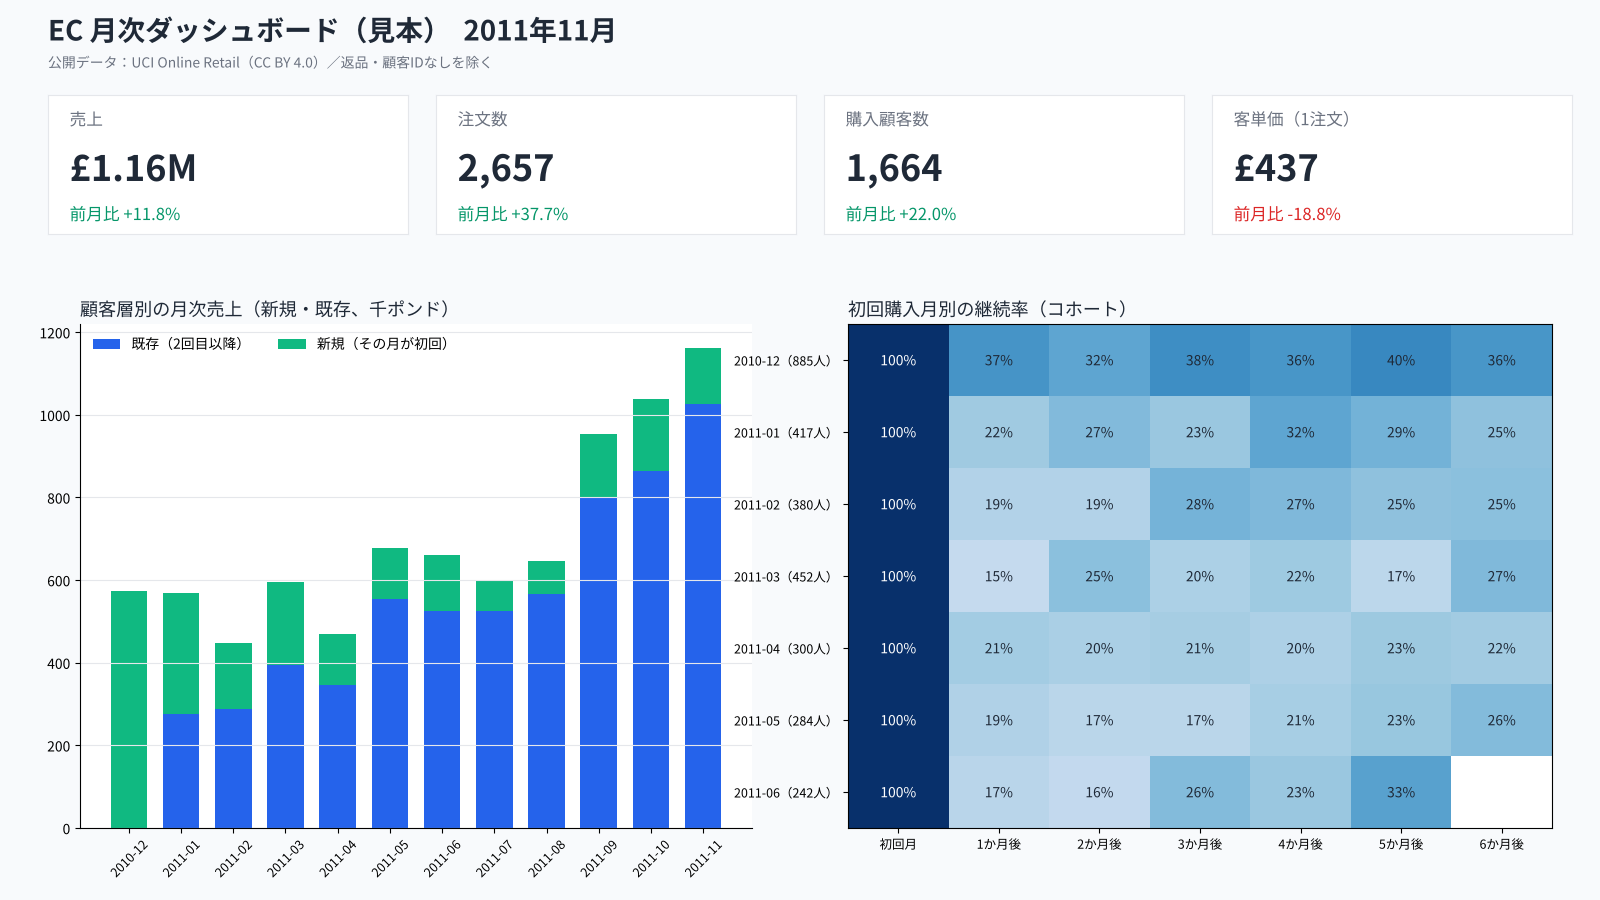

The dashboard page shown, as its layout file describes it:
{"tool":"powerbi","page":{"name":"ページ 1","canvas":[1920,1080],"ordinal":0},"visuals":[{"type":"cardVisual","fields":{"Data":["fact_sales.売上 前月比","fact_sales.注文数 前月比","fact_sales.購入顧客数 前月比","fact_sales.客単価 前月比"]},"box":[10.1,250.5,1886.2,79.2],"z":1000},{"type":"columnChart","fields":{"Category":["Calendar.年月"],"Series":["fact_sales.顧客区分"],"Y":["fact_sales.売上"]},"box":[10.1,347.2,943.1,724.8],"z":2000},{"type":"pivotTable","fields":{"Columns":["経過月.Value"],"Rows":["dim_customer.初回月"],"Values":["fact_sales.コホート 継続率"]},"box":[953.2,347.2,943.1,724.8],"z":3000},{"type":"slicer","fields":{"Values":["Calendar.年月"]},"box":[1589.6,16.6,299.3,72.8],"z":4000},{"type":"textbox","box":[35.9,31.3,979.9,75.5],"z":5000},{"type":"cardVisual","fields":{"Data":["fact_sales.売上（表示）","fact_sales.注文数（表示）","fact_sales.購入顧客数（表示）","fact_sales.客単価（表示）"]},"box":[10.1,82.9,1886.2,150.1],"z":5001}]}

Visuals, with their boxes in screenshot pixels (x1, y1, x2, y2), scaled from the page's 1920x1080 canvas onto the 1600x900 screenshot:
cardVisual - fact_sales.売上 前月比 x fact_sales.注文数 前月比: <bbox>8, 209, 1580, 275</bbox>
columnChart - Calendar.年月 x fact_sales.顧客区分: <bbox>8, 289, 794, 893</bbox>
pivotTable - 経過月.Value x dim_customer.初回月: <bbox>794, 289, 1580, 893</bbox>
slicer - Calendar.年月: <bbox>1325, 14, 1574, 75</bbox>
textbox: <bbox>30, 26, 846, 89</bbox>
cardVisual - fact_sales.売上（表示） x fact_sales.注文数（表示）: <bbox>8, 69, 1580, 194</bbox>
